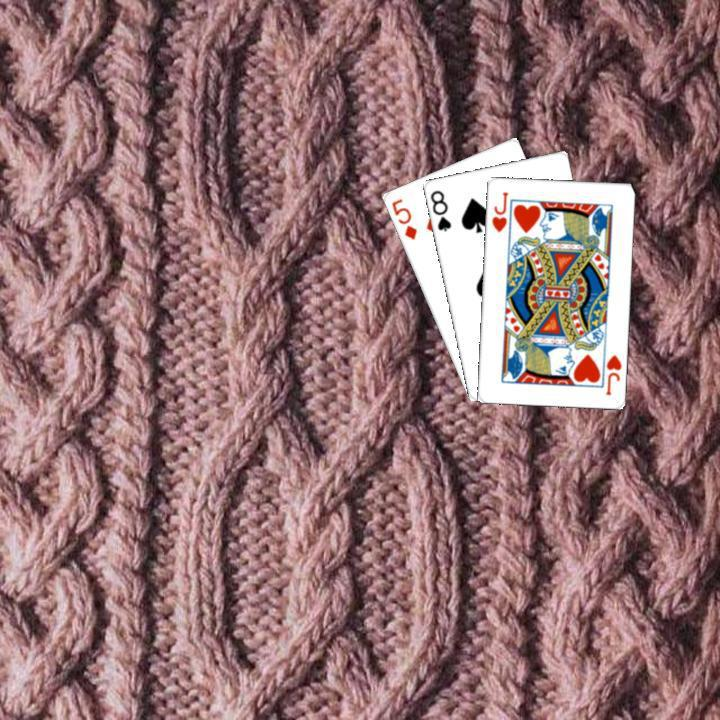5: (387, 194, 419, 242)
8: (426, 186, 453, 233)
J: (487, 188, 509, 234), (601, 350, 623, 396)
